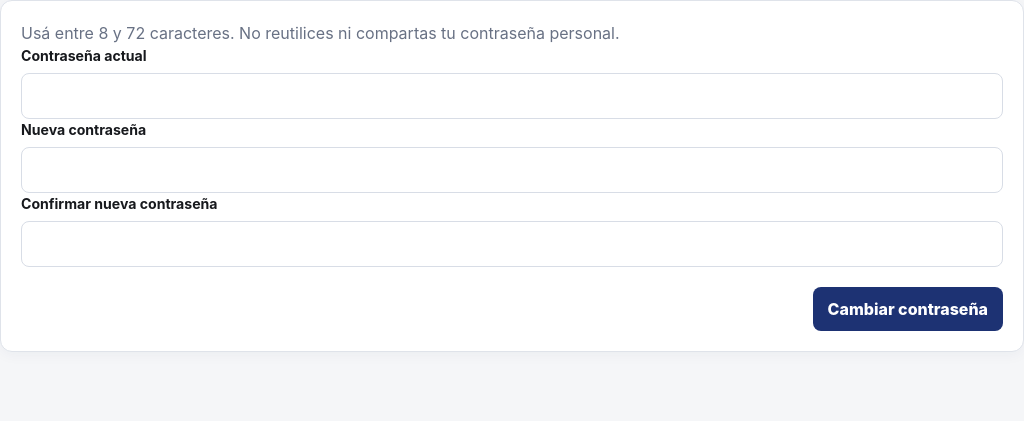
it: PasswordForm › exige la contraseña actual y evita reutilizarla
Type "ClaveSegura2026" into the password field labelled "Contraseña actual".
click(512, 96); type("ClaveSegura2026")  # box [21,73,1003,119]
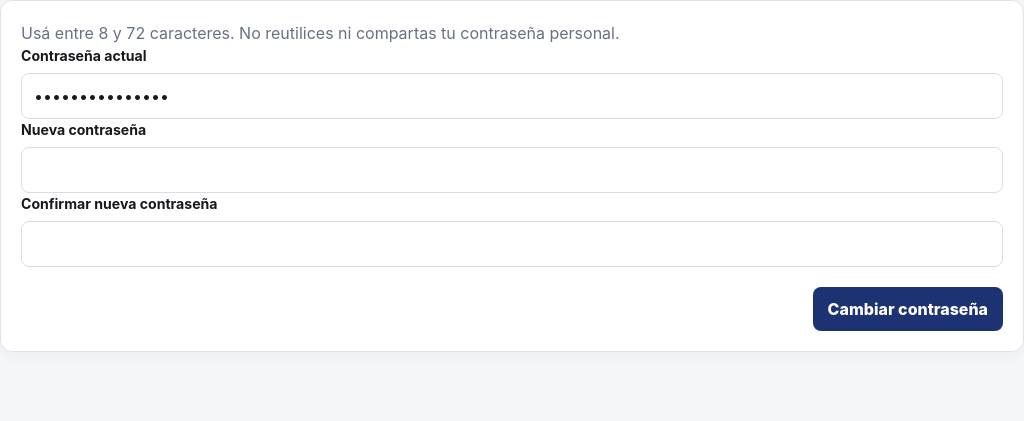
Type "ClaveSegura2026" into the password field labelled "Nueva contraseña".
click(512, 170); type("ClaveSegura2026")  # box [21,147,1003,193]
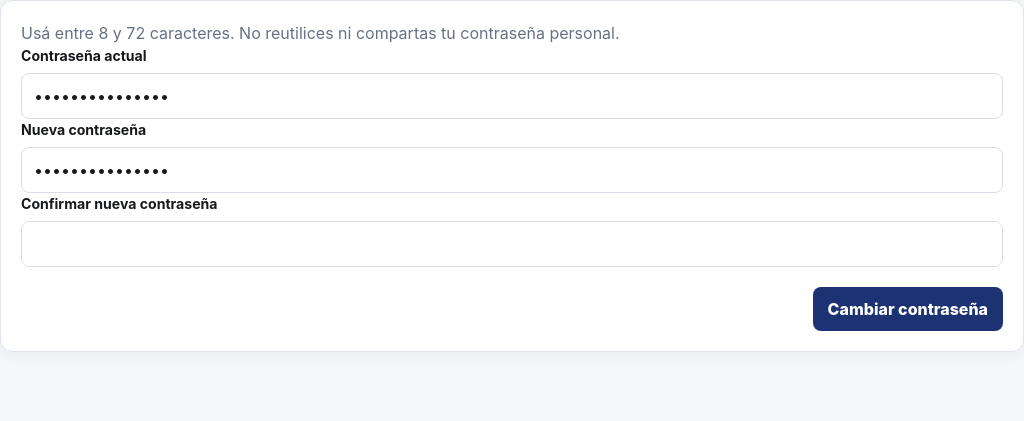
Type "ClaveSegura2026" into the password field labelled "Confirmar nueva contraseña".
click(512, 244); type("ClaveSegura2026")  # box [21,221,1003,267]
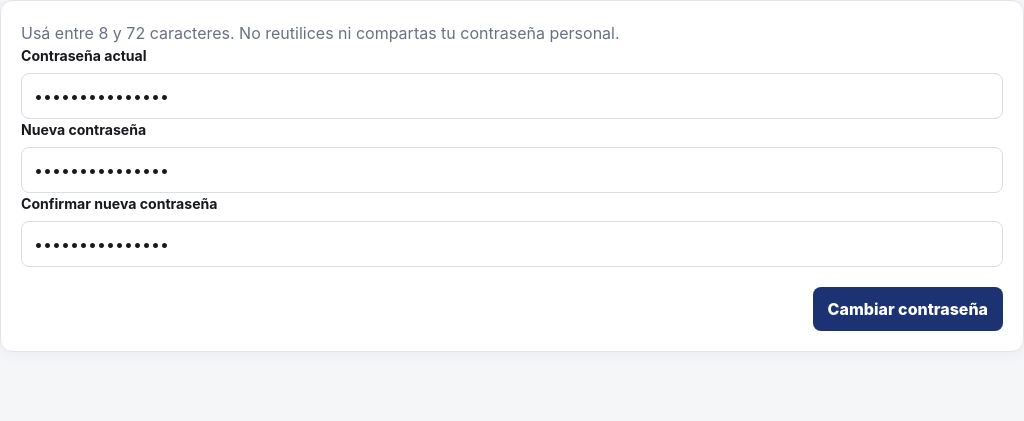
Click the button "Cambiar contraseña".
click(908, 309)  # box [813,287,1003,331]
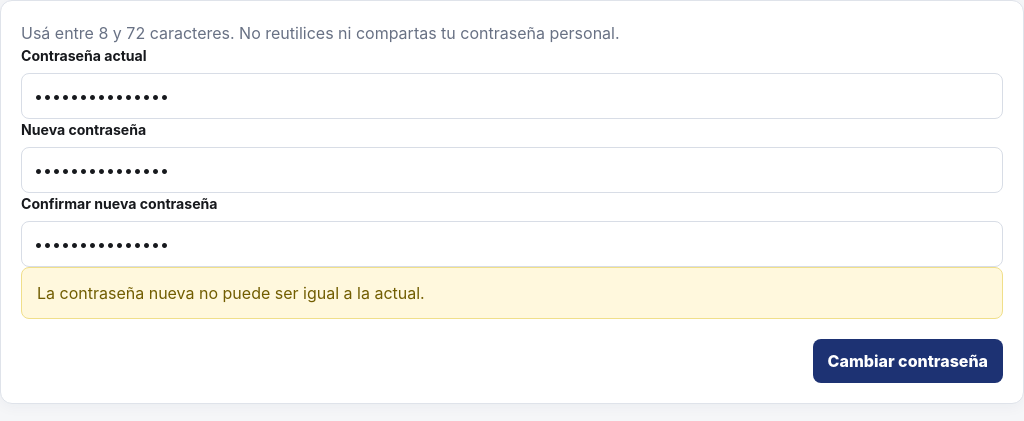
Now the text "La contraseña nueva no puede ser igual a la actual." is shown, box [21,267,1003,319]
